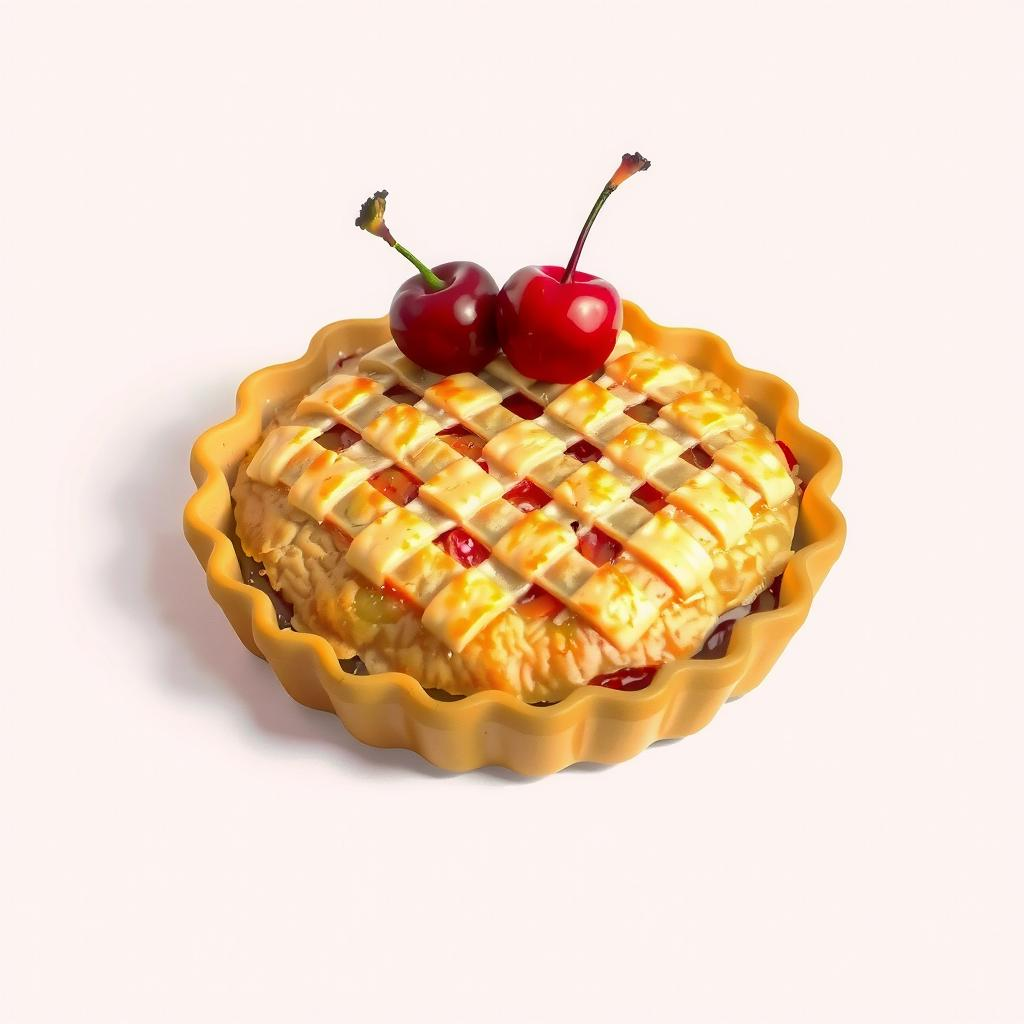pie: (174, 264, 859, 780)
